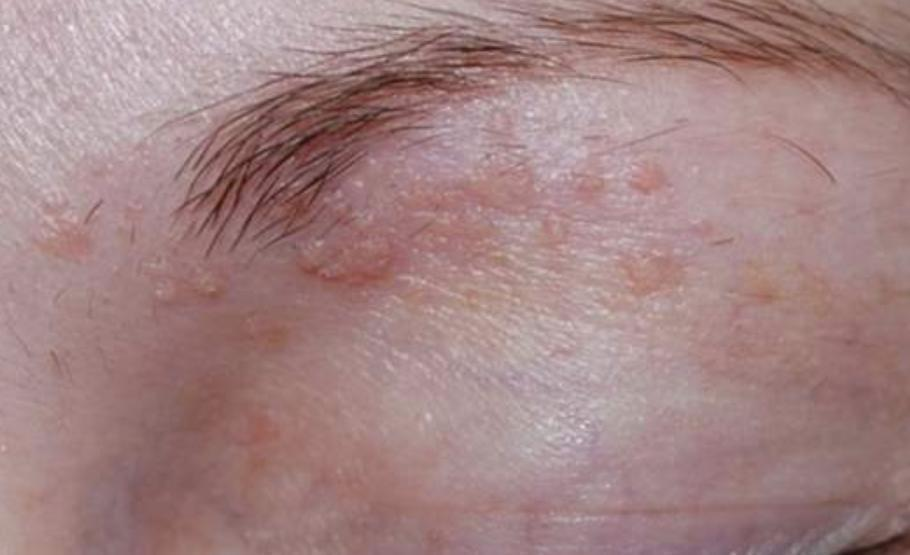flat_wart: (280, 204, 402, 299), (411, 162, 532, 225), (136, 264, 237, 328), (610, 240, 697, 306), (617, 148, 677, 201)
